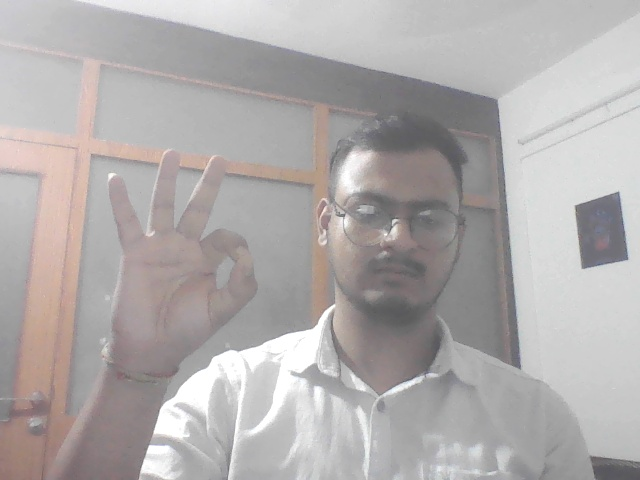OK: (80, 147, 270, 362)
